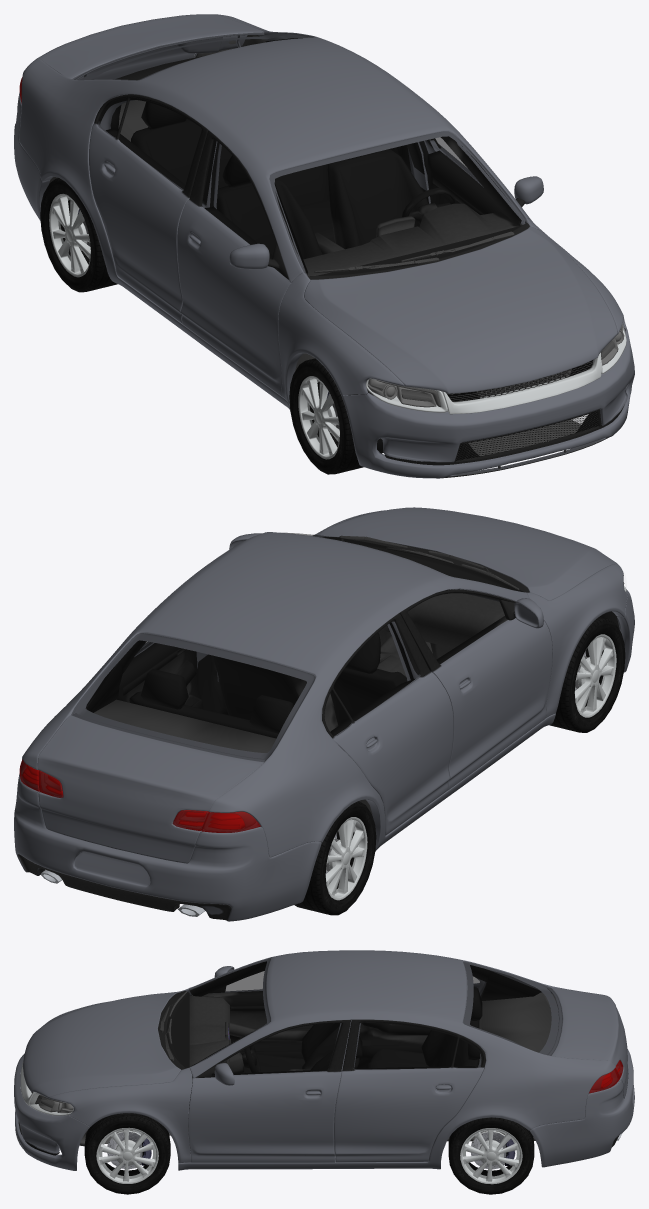
File: sedan.glb
3 renders of one model, top to bottom at view 1: azimuth 30°, elevation 25°; view 2: azimuth 150°, elevation 25°; view 3: azimuth 270°, elevation 25°, orthographic. The views are drawn at different scales.
Parts seen in each view (by area): view 1: sedan-unibody_65, hood_60, windshield_102, bumper-front_8, door-front-r_17, door-rear-r_23, trunk_99, front-seat-backrest_39, fender-front-r_33, dashboard_13, rear-seat-backseat_63, door-rear-window-glass-r_27 (+23 smaller); view 2: sedan-unibody_65, trunk_99, glass-rear_42, bumper-rear_10, door-front-r_17, door-rear-r_23, hood_60, fender-front-r_33, door-rear-window-glass-r_27, door-front-window-glass-r_19, rear-seat-backseat_63, dashboard_13 (+17 smaller); view 3: sedan-unibody_65, door-front-l_16, door-rear-l_22, hood_60, windshield_102, glass-rear_42, fender-front-l_32, bumper-rear_10, trunk_99, door-rear-window-glass-l_26, door-front-window-glass-l_18, bumper-front_8 (+22 smaller).
Part boxes in pixels (<box>): sedan-unibody_65: <box>19,14,533,410</box>; hood_60: <box>304,226,617,393</box>; windshield_102: <box>270,131,526,275</box>; bumper-front_8: <box>342,328,634,478</box>; door-front-r_17: <box>177,130,291,396</box>; door-rear-r_23: <box>89,94,208,323</box>; trunk_99: <box>38,14,264,79</box>; front-seat-backrest_39: <box>327,149,428,249</box>; fender-front-r_33: <box>278,272,404,403</box>; dashboard_13: <box>303,203,520,276</box>; rear-seat-backseat_63: <box>131,102,329,205</box>; door-rear-window-glass-r_27: <box>119,98,201,190</box>; sedan-unibody_65: <box>20,532,555,857</box>; trunk_99: <box>37,713,264,863</box>; glass-rear_42: <box>71,633,314,761</box>; bumper-rear_10: <box>14,774,321,921</box>; door-front-r_17: <box>400,589,552,790</box>; door-rear-r_23: <box>322,613,453,835</box>; hood_60: <box>313,507,617,600</box>; fender-front-r_33: <box>527,564,627,717</box>; door-rear-window-glass-r_27: <box>334,620,420,721</box>; door-front-window-glass-r_19: <box>408,593,506,663</box>; rear-seat-backseat_63: <box>129,669,293,738</box>; dashboard_13: <box>378,593,504,659</box>; sedan-unibody_65: <box>178,950,620,1170</box>; door-front-l_16: <box>188,1020,350,1162</box>; door-rear-l_22: <box>334,1019,485,1162</box>; hood_60: <box>22,991,180,1098</box>; windshield_102: <box>166,959,270,1067</box>; glass-rear_42: <box>463,961,562,1055</box>; fender-front-l_32: <box>49,1067,192,1163</box>; bumper-rear_10: <box>529,1049,634,1167</box>; trunk_99: <box>547,987,628,1098</box>; door-rear-window-glass-l_26: <box>354,1022,456,1069</box>; door-front-window-glass-l_18: <box>227,1023,341,1074</box>; bumper-front_8: <box>14,1054,89,1170</box>.
Size of the model in its own units: 2.1 by 1.5 by 4.98.
Materials: 23 (11 with a texture image).
